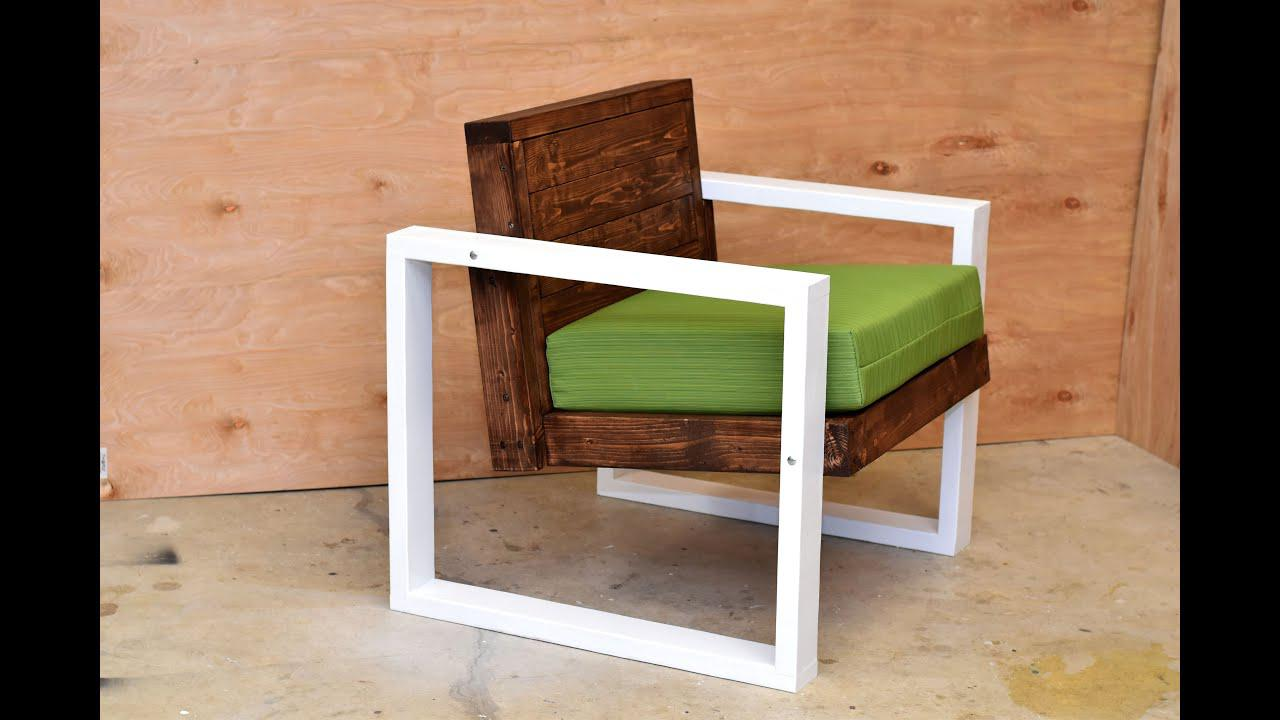chair: (330, 65, 1056, 701)
